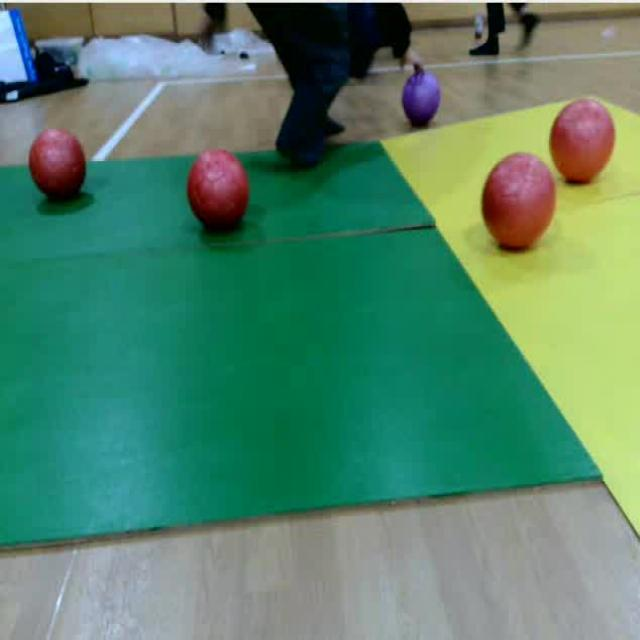purple_ball: (399, 72, 441, 128)
red_ball: (481, 148, 560, 250), (550, 96, 622, 186), (186, 146, 254, 237), (26, 121, 82, 206)
